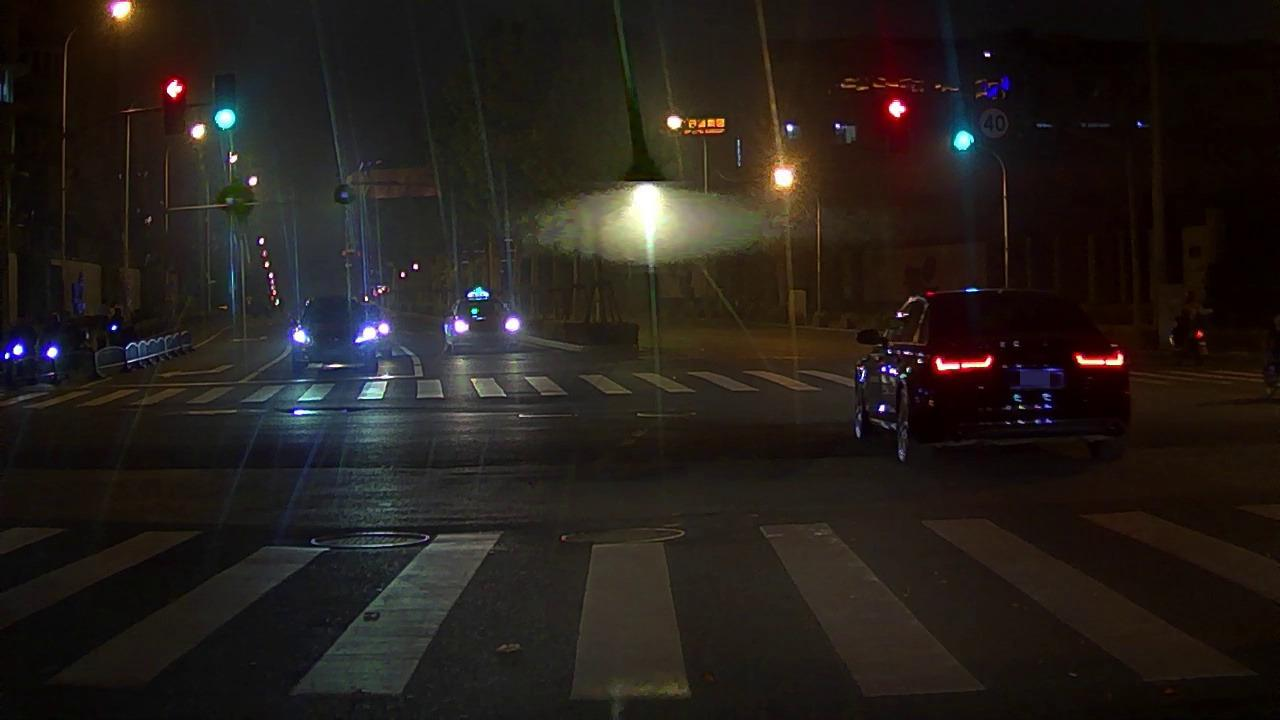traffic_light: (213, 75, 235, 130), (953, 118, 974, 169), (164, 80, 183, 133), (888, 98, 907, 150)
